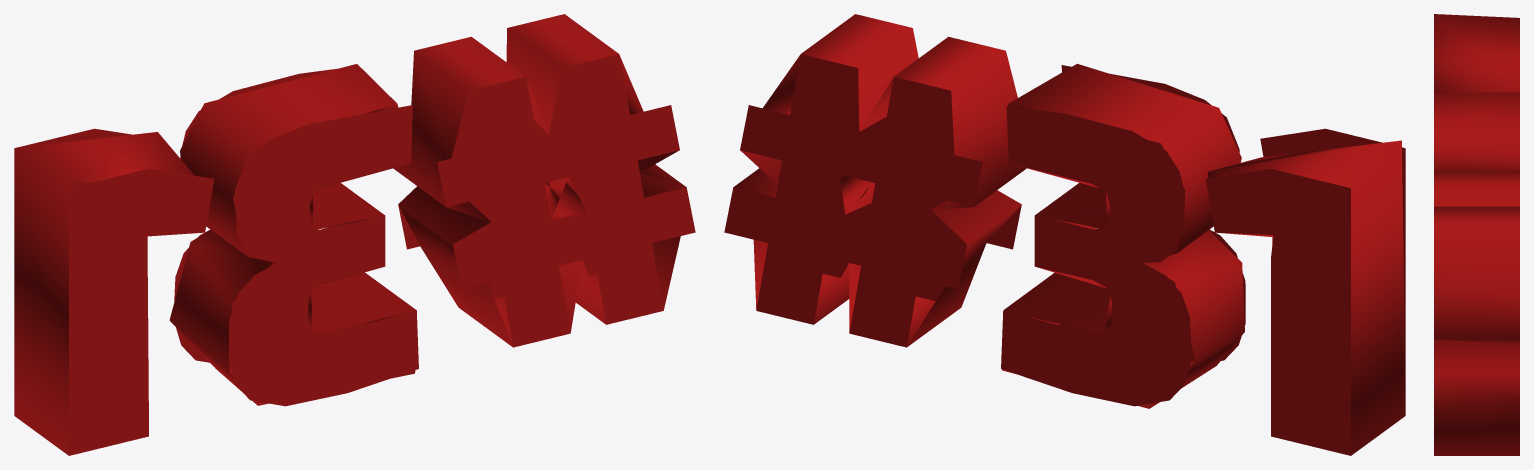
3 renders of one model, left to right at view 1: azimuth 30°, elevation 25°; view 2: azimuth 150°, elevation 25°; view 3: azimuth 270°, elevation 25°, orthographic. The views are drawn at different scales.
Visible parts, largest first — view 1: Text; view 2: Text; view 3: Text.
Boxes of the visible parts, x1,y1,x2,y2 form: Text: (14,14,695,455); Text: (724,14,1405,455); Text: (1434,14,1519,455).
Size of the model in its own units: 5.29 by 2.26 by 0.8.
